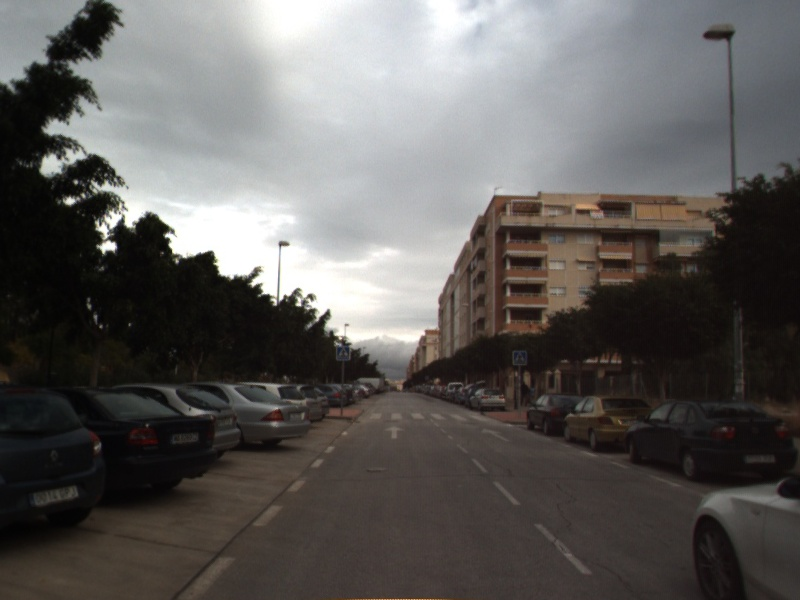STRAIGHT: (479, 426, 512, 443), (382, 424, 407, 441)
